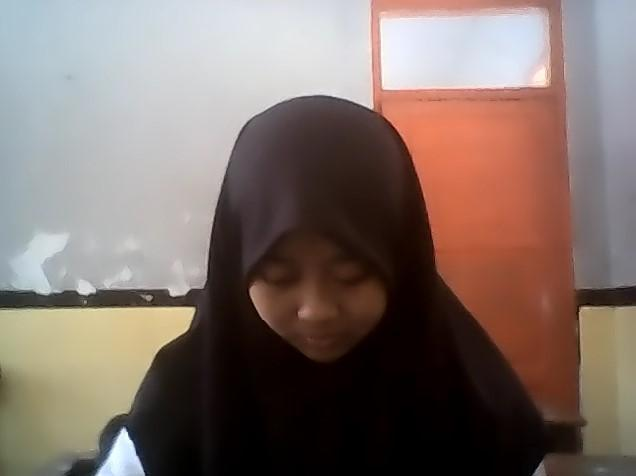good: (75, 84, 565, 476)
